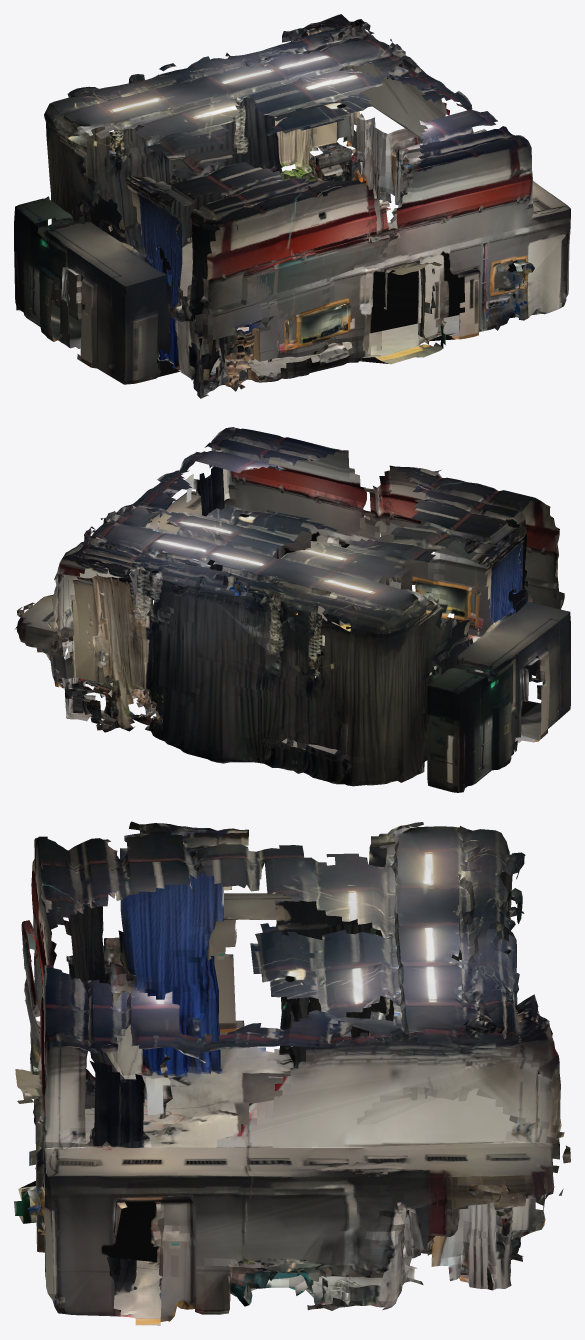
The model's file is Tv_studio_main-IM.fbx.
3 views of the same model, one above another, from view 1: azimuth 30°, elevation 25°; view 2: azimuth 150°, elevation 25°; view 3: azimuth 270°, elevation 25° (orthographic). The views are drawn at different scales.
Visible parts, largest first — view 1: Tv_studio_main-IM; view 2: Tv_studio_main-IM; view 3: Tv_studio_main-IM.
Boxes of the visible parts, x1,y1,x2,y2 form: Tv_studio_main-IM: [14, 14, 570, 398]; Tv_studio_main-IM: [15, 427, 570, 792]; Tv_studio_main-IM: [14, 821, 570, 1325].
Size of the model in its own units: 1412 by 606 by 1114.
Materials: 1 (1 with a texture image).
